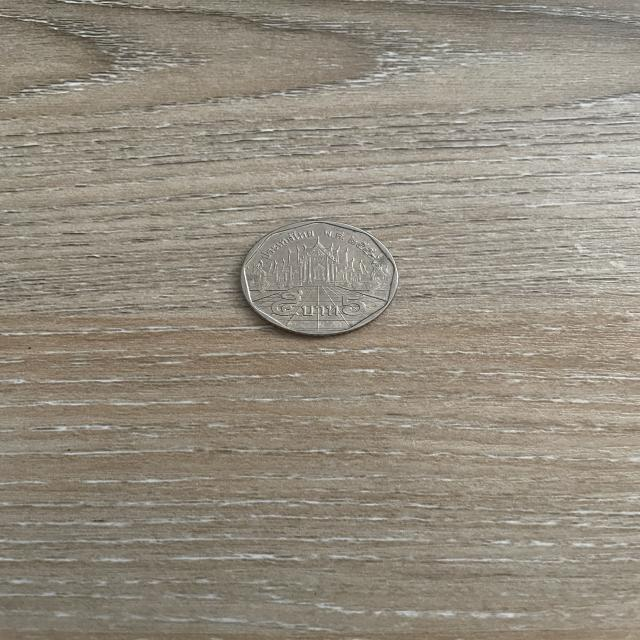5 Bath: (234, 212, 405, 343)
